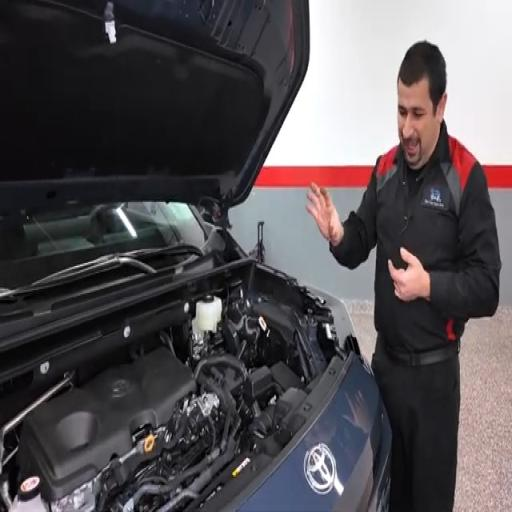bumper: (237, 357, 391, 511)
emblem: (304, 443, 336, 494)
hood: (0, 0, 309, 211)
windshield: (0, 202, 205, 288)
